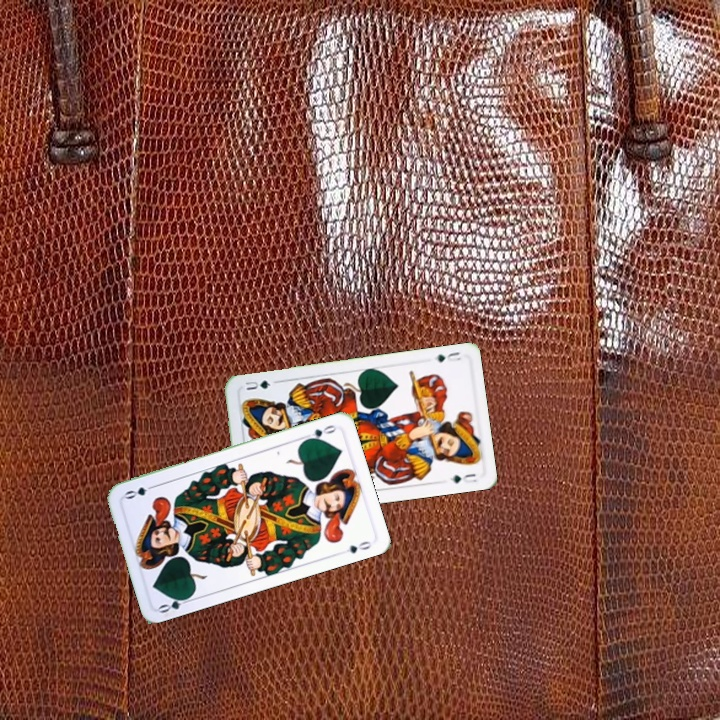GO: (155, 592, 195, 616), (301, 421, 339, 444)
GU: (430, 348, 463, 365)
